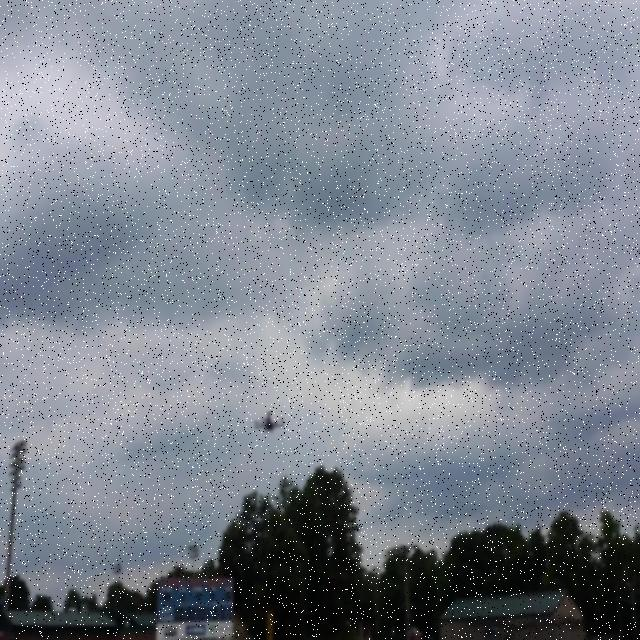UAV: (254, 412, 284, 434)
